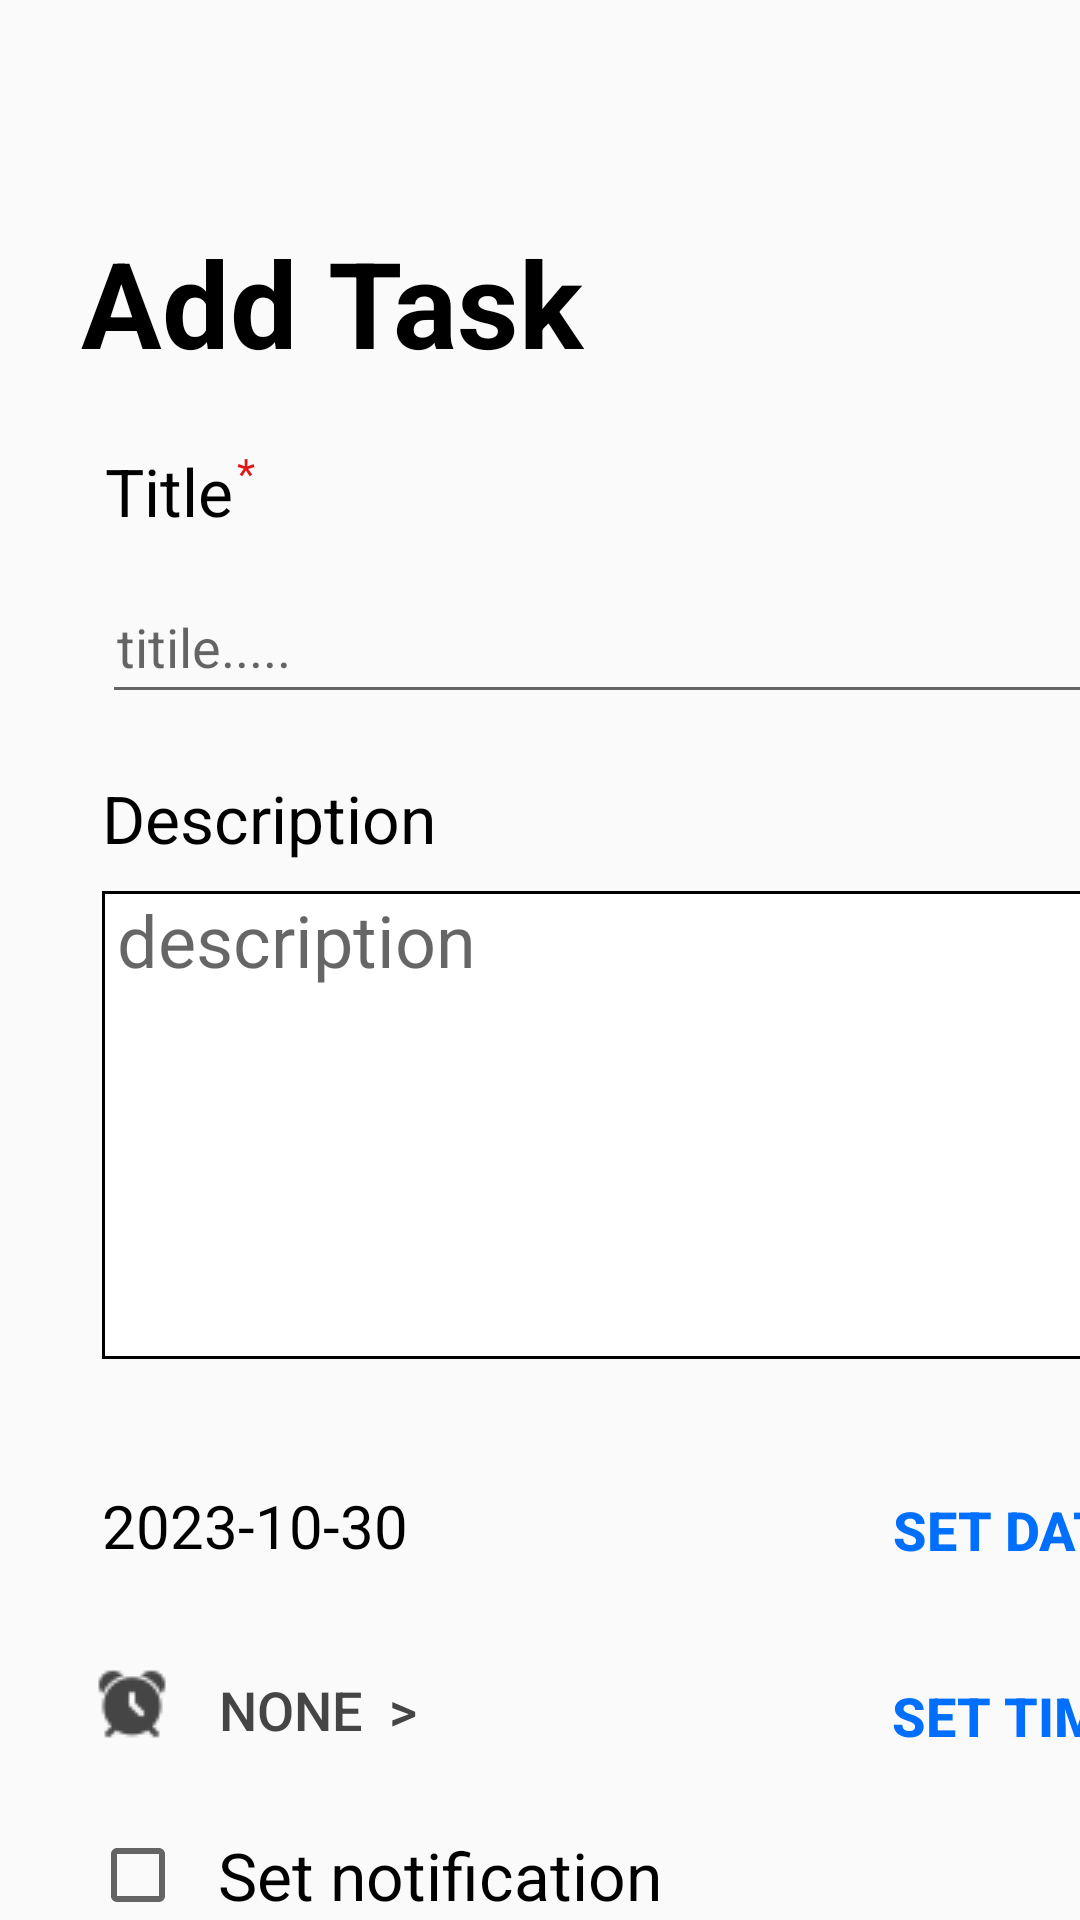

Icons on this 1080x1920 Android screen, each with its box as (x1, y1, x2, y2):
alarmclock: (98, 1670, 166, 1738)
